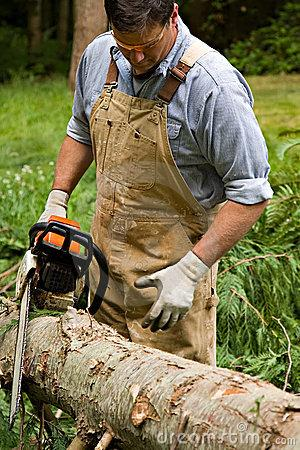person: (37, 1, 275, 368)
